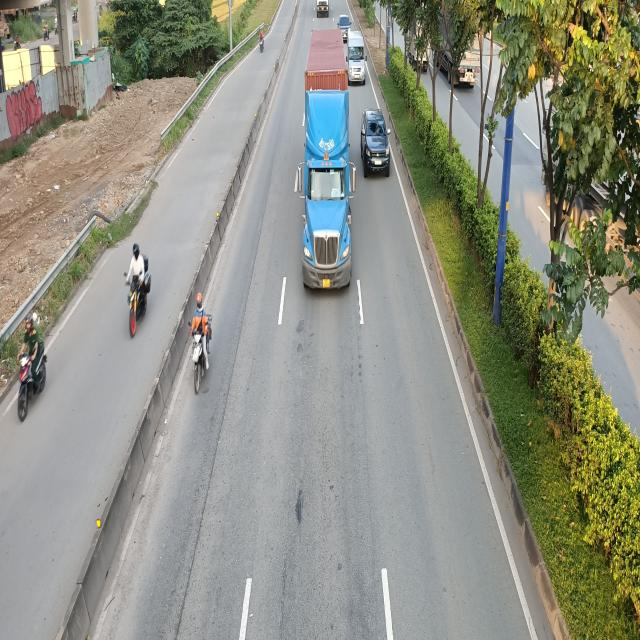car: (358, 110, 390, 178), (339, 15, 352, 43), (316, 0, 330, 18)
container: (294, 32, 354, 292)
van: (345, 31, 367, 86)
